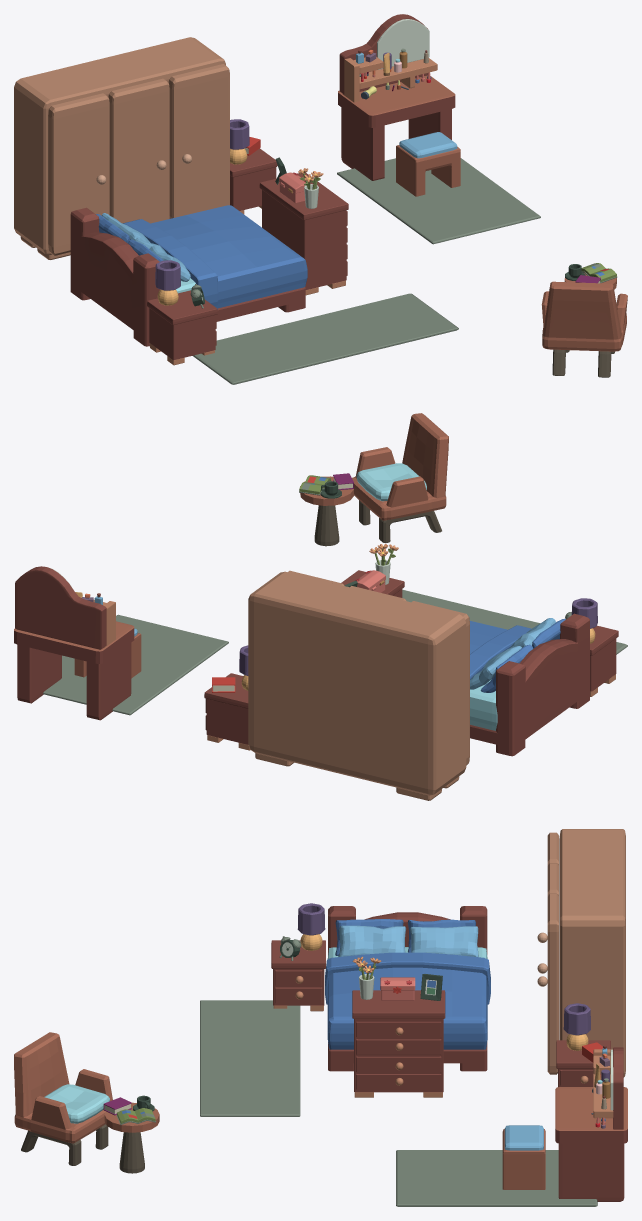
The model's file is AllBedroomAssets.fbx.
The picture shows the model from 3 angles, top to bottom: view 1: azimuth 30°, elevation 25°; view 2: azimuth 150°, elevation 25°; view 3: azimuth 270°, elevation 25°; orthographic projection. The views are drawn at different scales.
Visible parts, largest first — view 1: Bedroom_BigDrawer, Bedroom_Bed, Bedroom_BeautyTable, Bedroom_LongCarped, Bedroom_Carped_short, Bedroom_drawer, Bedroom_Chair, Bedroom_bedstand_2, Bedroom_lilChair, Bedroom_bedstand_1, Bedroom_lilTable; view 2: Bedroom_BigDrawer, Bedroom_Bed, Bedroom_BeautyTable, Bedroom_Chair, Bedroom_Carped_short, Bedroom_bedstand_1, Bedroom_lilTable, Bedroom_bedstand_2, Bedroom_LongCarped, Bedroom_drawer, Bedroom_lilChair; view 3: Bedroom_Bed, Bedroom_BigDrawer, Bedroom_LongCarped, Bedroom_drawer, Bedroom_BeautyTable, Bedroom_Chair, Bedroom_Carped_short, Bedroom_bedstand_2, Bedroom_lilChair, Bedroom_bedstand_1, Bedroom_lilTable.
Part boxes in pixels (box(x1,y1,x2,y2)): Bedroom_BigDrawer: box(14, 37, 229, 259); Bedroom_Bed: box(70, 205, 307, 346); Bedroom_BeautyTable: box(338, 14, 455, 180); Bedroom_LongCarped: box(192, 293, 458, 384); Bedroom_Carped_short: box(337, 158, 540, 244); Bedroom_drawer: box(259, 157, 348, 295); Bedroom_Chair: box(541, 281, 627, 377); Bedroom_bedstand_2: box(147, 260, 217, 365); Bedroom_lilChair: box(396, 132, 460, 196); Bedroom_bedstand_1: box(230, 119, 277, 214); Bedroom_lilTable: box(564, 263, 617, 289); Bedroom_BigDrawer: box(248, 570, 469, 800); Bedroom_Bed: box(470, 613, 589, 756); Bedroom_BeautyTable: box(14, 566, 134, 720); Bedroom_Chair: box(352, 413, 448, 543); Bedroom_Carped_short: box(43, 614, 228, 715); Bedroom_bedstand_1: box(204, 645, 250, 750); Bedroom_lilTable: box(299, 473, 353, 546); Bedroom_bedstand_2: box(565, 598, 618, 696); Bedroom_LongCarped: box(402, 589, 627, 654); Bedroom_drawer: box(341, 544, 404, 597); Bedroom_lilChair: box(74, 628, 141, 678); Bedroom_Bed: box(325, 906, 490, 1071); Bedroom_BigDrawer: box(537, 829, 625, 1077); Bedroom_LongCarped: box(200, 1000, 300, 1116); Bedroom_drawer: box(352, 956, 445, 1097); Bedroom_BeautyTable: box(555, 1045, 627, 1201); Bedroom_Chair: box(14, 1032, 112, 1165); Bedroom_Carped_short: box(396, 1150, 597, 1206); Bedroom_bedstand_2: box(271, 903, 325, 1011); Bedroom_lilChair: box(502, 1125, 545, 1189); Bedroom_bedstand_1: box(556, 1003, 610, 1086); Bedroom_lilTable: box(103, 1095, 159, 1173).
Bounding box in the file's own units: 525 × 189 × 624.
